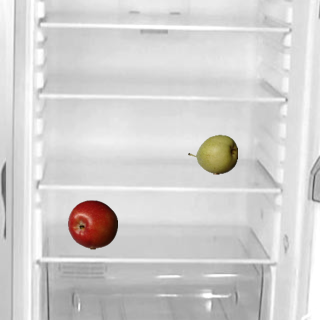Apple Braeburn: (67, 199, 117, 249)
Pear: (187, 129, 237, 179)
